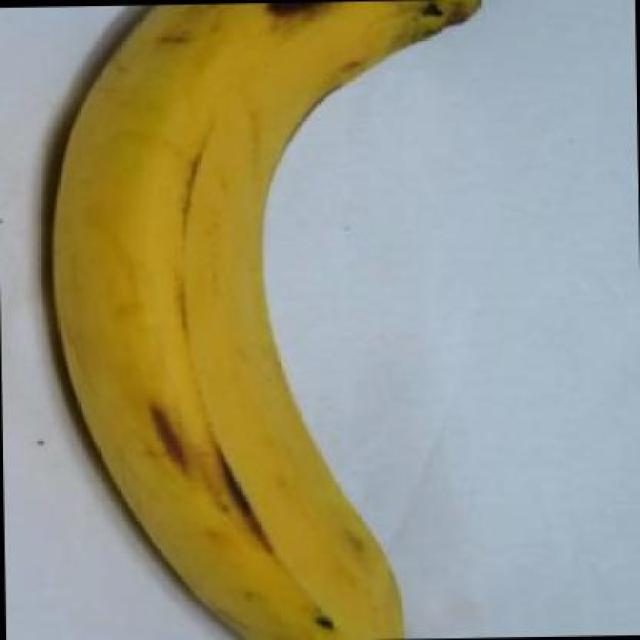ripe: (37, 0, 501, 640)
